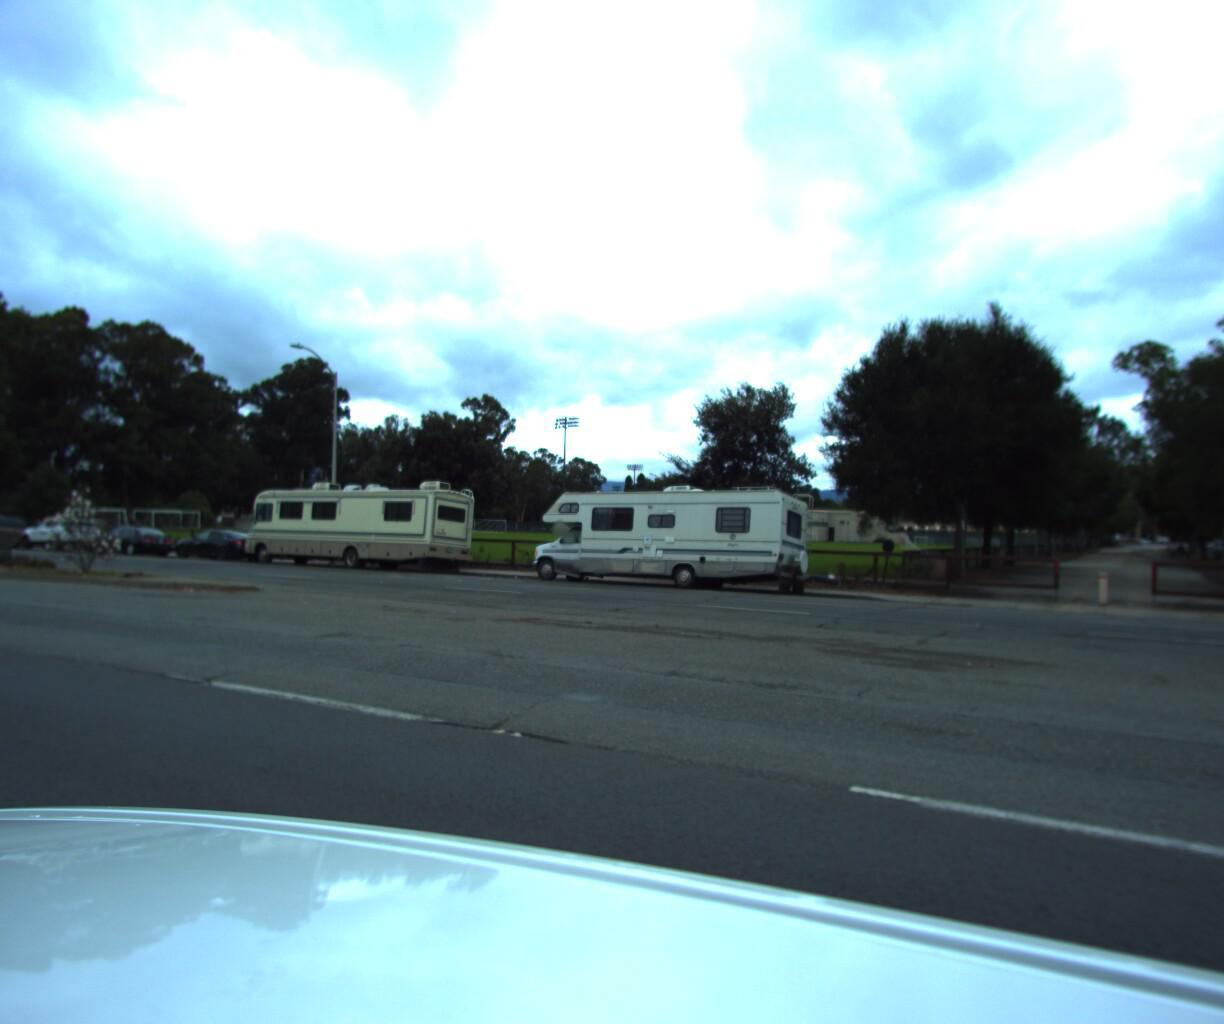car: (172, 522, 269, 562), (16, 513, 107, 552), (87, 520, 177, 556), (0, 509, 34, 548)
other_vehicle: (522, 485, 824, 595), (242, 482, 481, 573)
